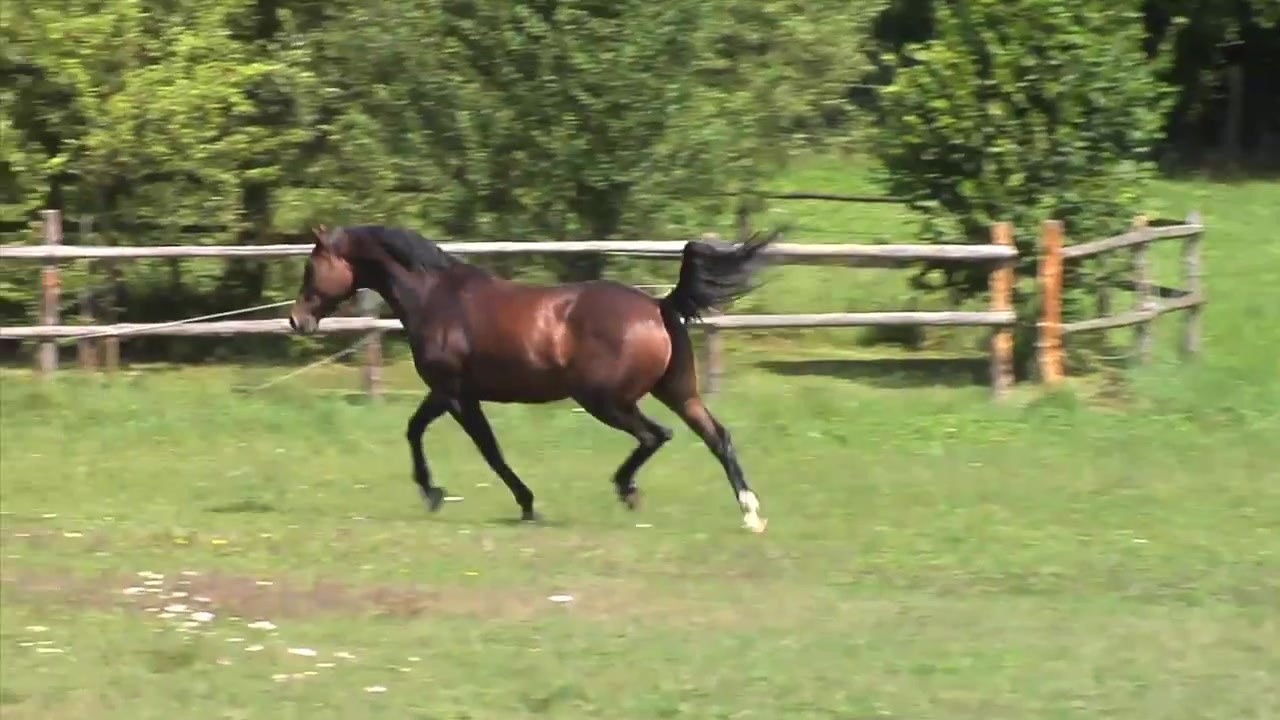horse: (287, 217, 776, 539)
